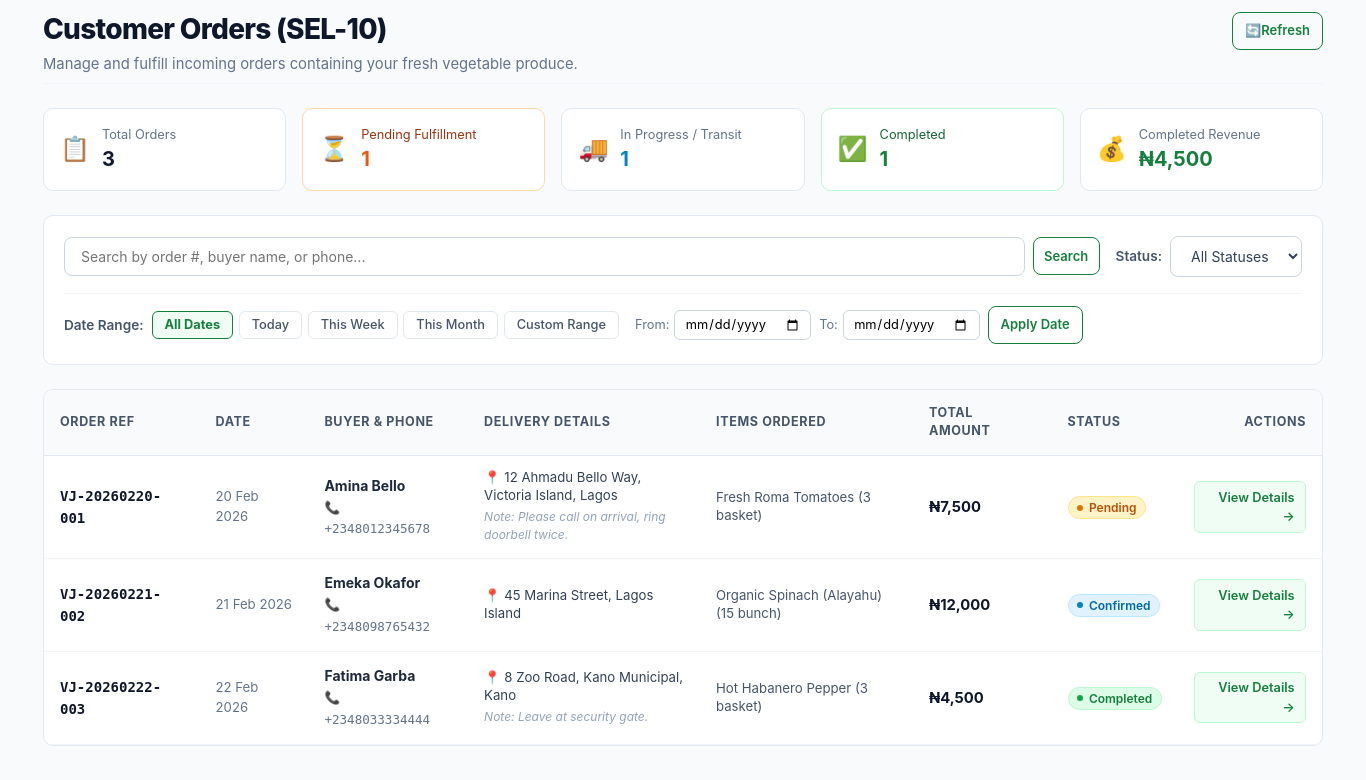
FE-090 / SEL-10: Seller Orders List › 6. Search and Reset Filters (SEL-10) › searches orders by buyer phone number
Type "+2348098765432" into the search field with test id "seller-orders-search-input" at (544, 256), box [64,237,1025,276]
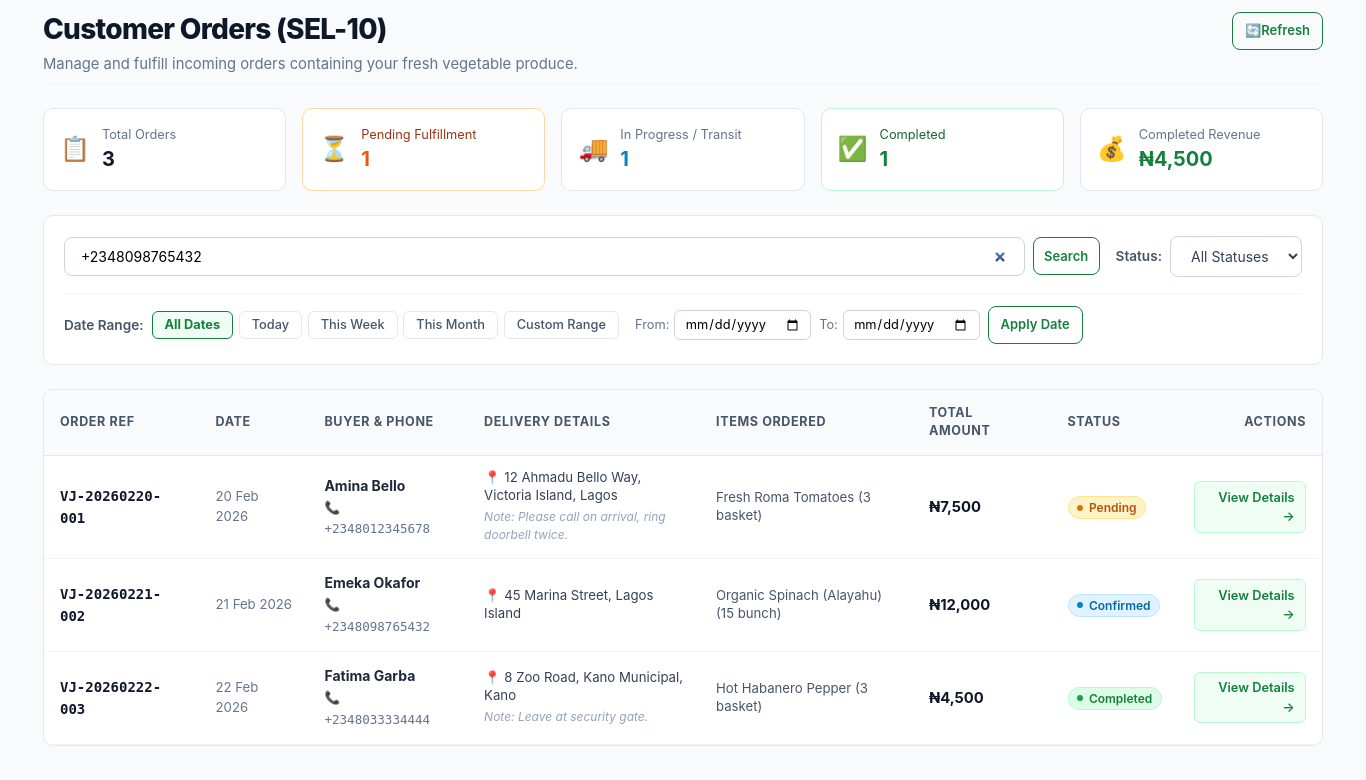
Click the button with test id "seller-orders-search-submit" at (1066, 256), box [1033,238,1100,276]
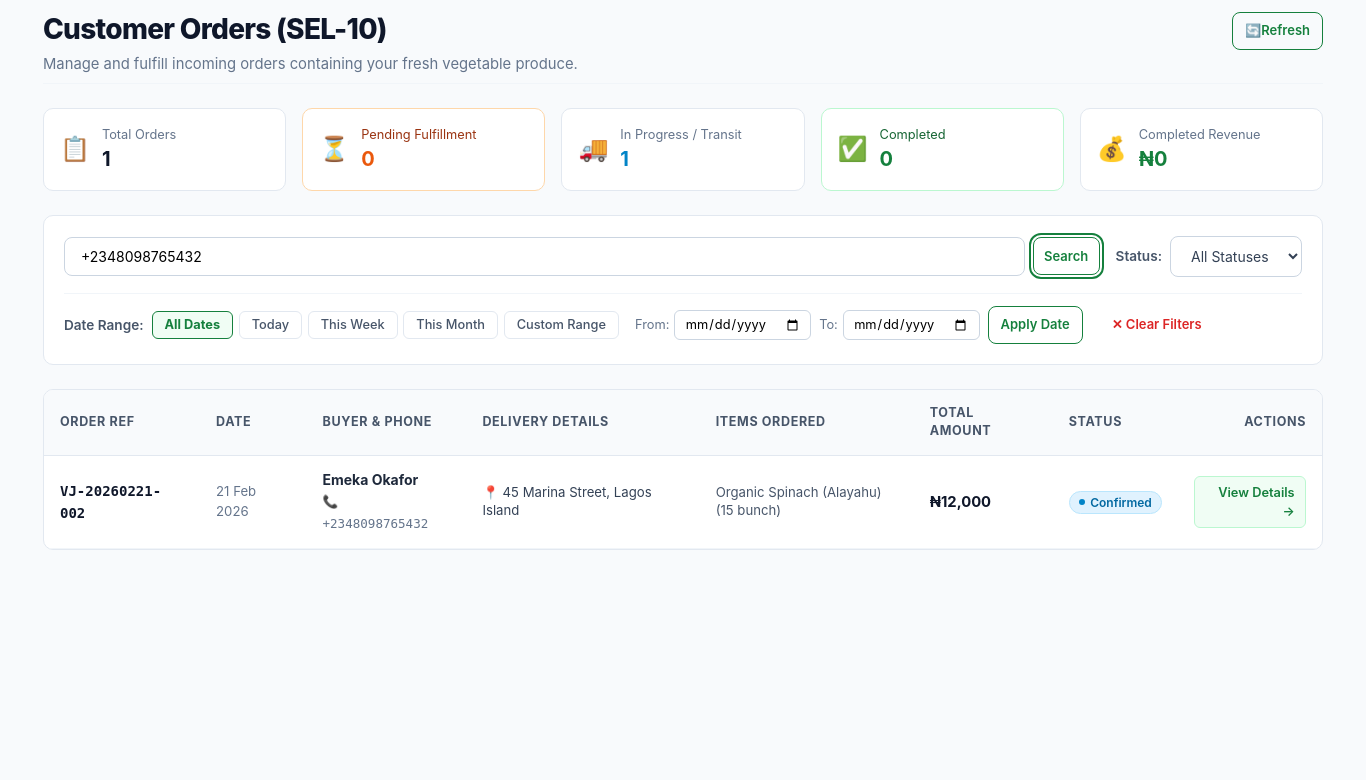
expect the row with test id "seller-order-row-102" is shown: met, box [44,455,1322,548]
expect the row with test id "seller-order-row-101" is gone: met
